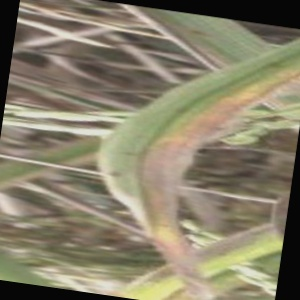Leaf_Blast: (103, 75, 203, 235)
